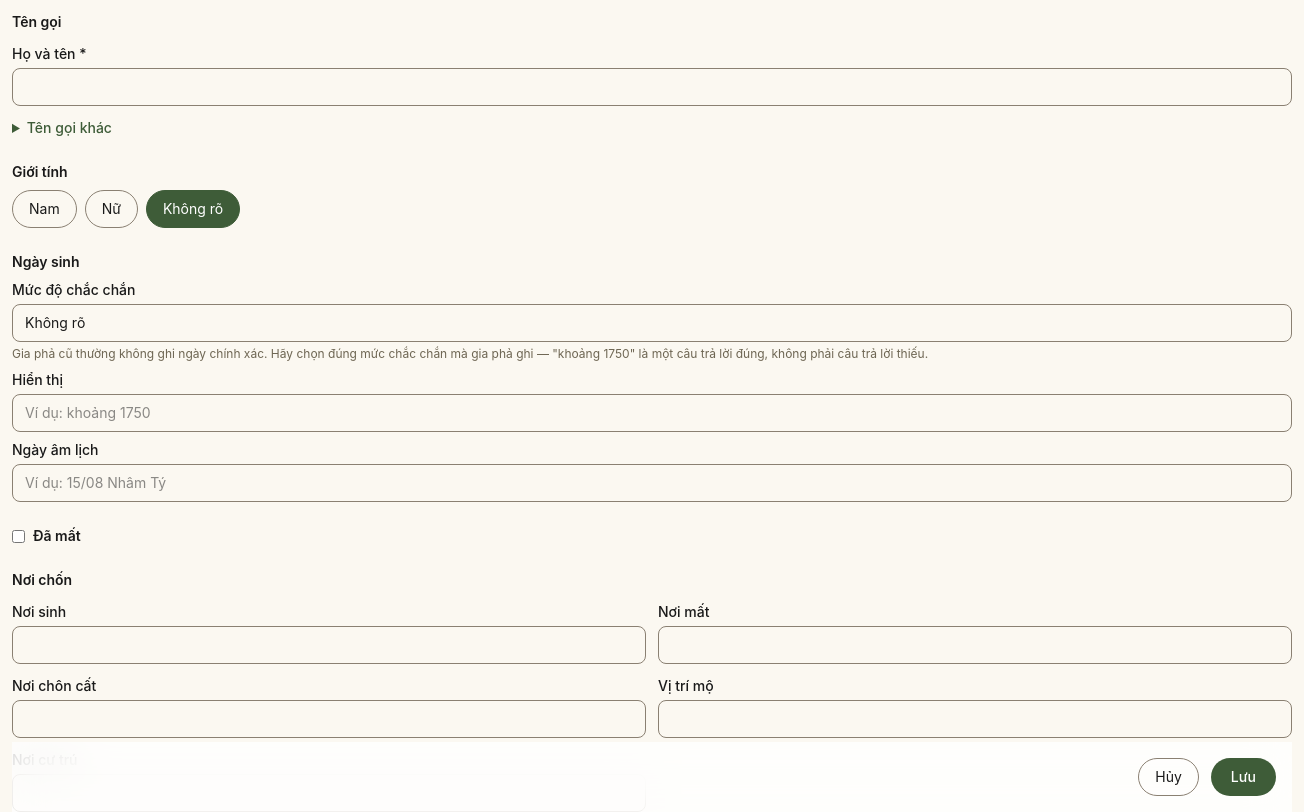
Test: PersonForm — the unsaved-changes guard after a successful save › create: leaving no longer prompts once the person is saved
In the field labelled "Họ và tên *": (652, 87) [12,68,1292,106], type "Nguyễn Văn Tổ"
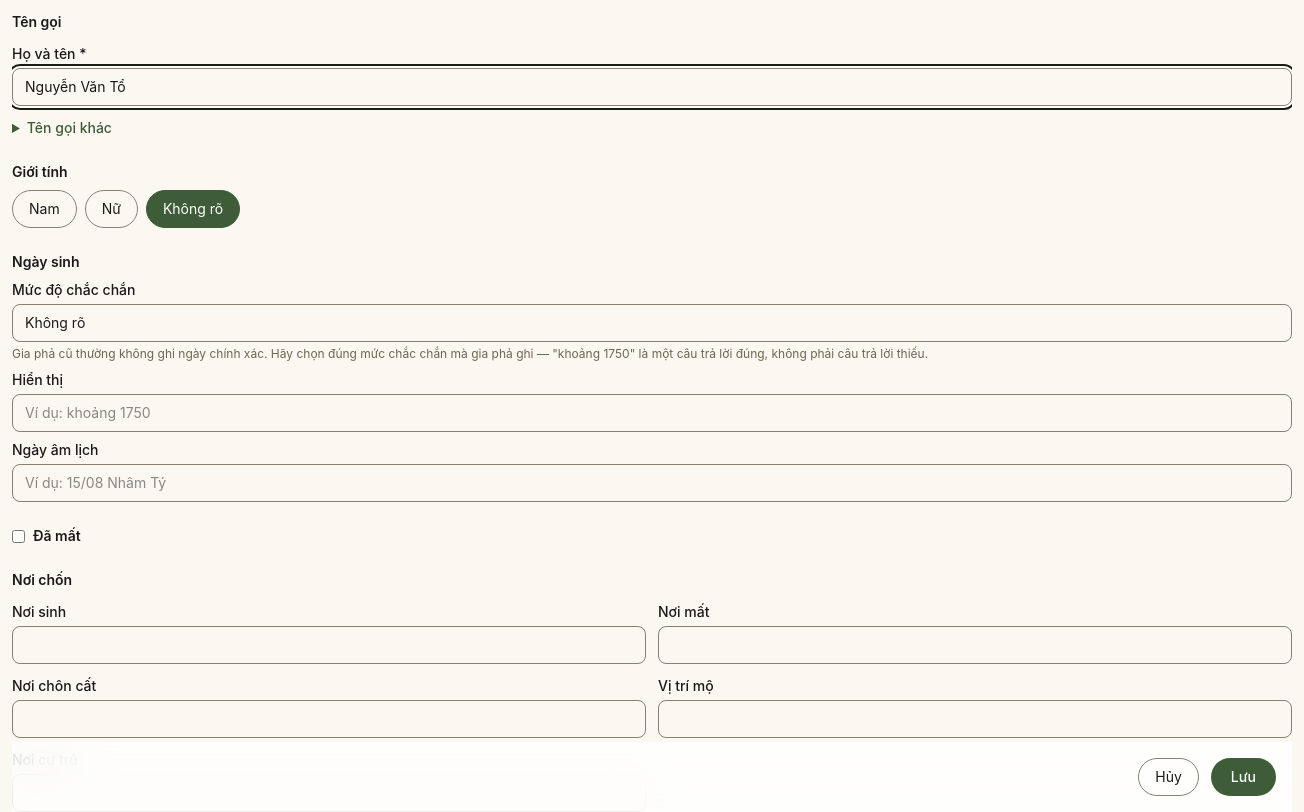
Click the button "Lưu": (1243, 777) [1211,758,1276,796]
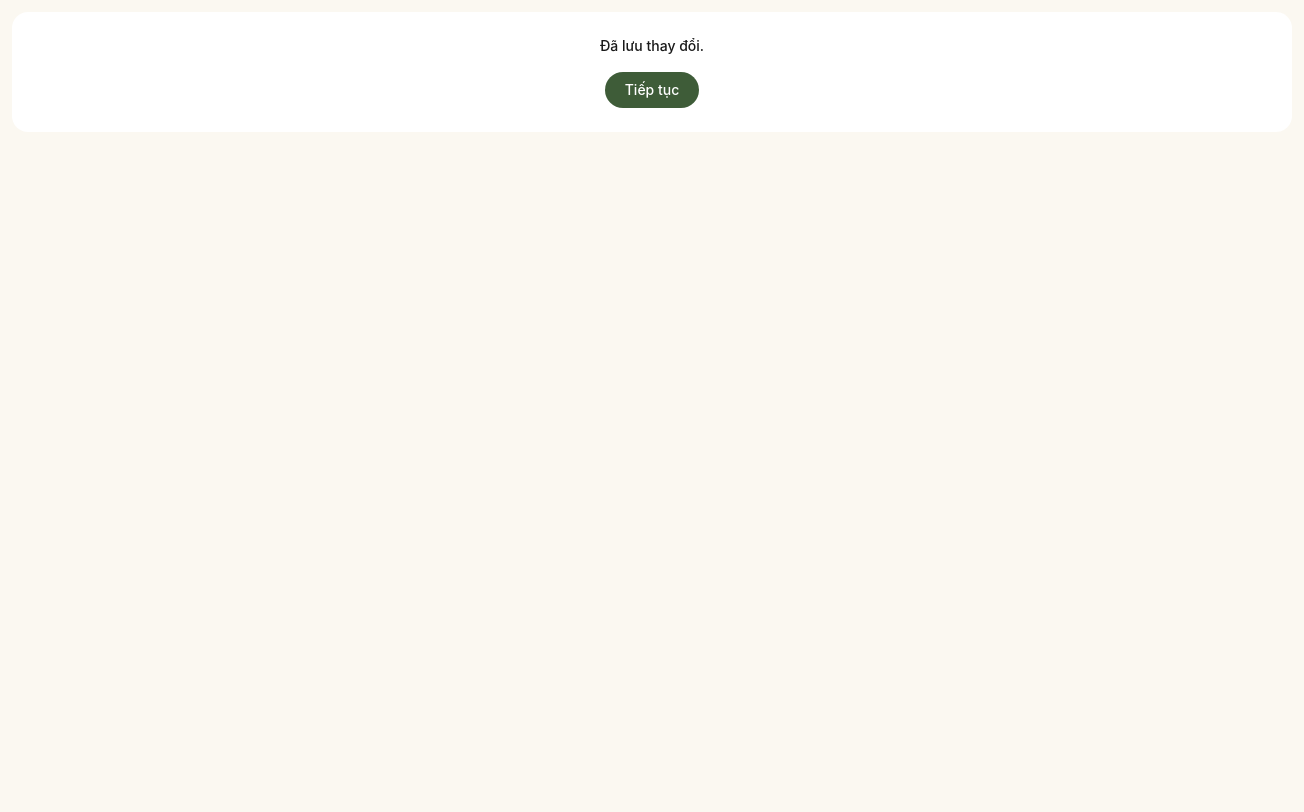
Expected: the text "Đã lưu thay đổi." is shown, [600,37,704,54]
